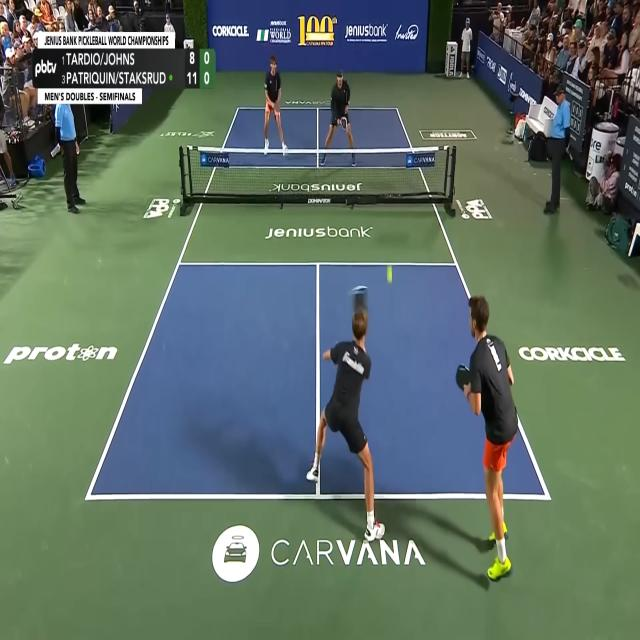ball: (386, 264, 393, 284)
